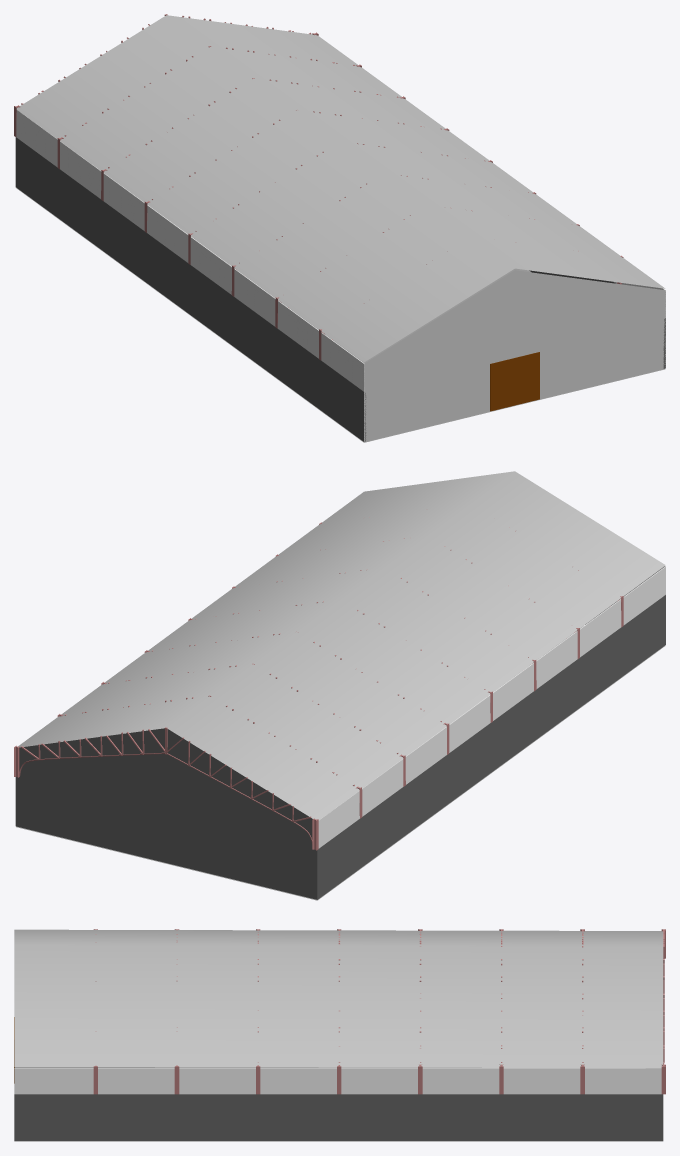
The model's file is Hangar.FBX.
The picture shows the model from 3 angles, top to bottom: view 1: azimuth 30°, elevation 25°; view 2: azimuth 150°, elevation 25°; view 3: azimuth 270°, elevation 25°; orthographic projection. The views are drawn at different scales.
Visible parts, largest first — view 1: salle:Layer2, salle:Layer6, salle:Layer7, salle:Layer8, salle:Layer5, salle:Layer1; view 2: salle:Layer2, salle:Layer6, salle:Layer7, salle:Layer1, salle:Layer5; view 3: salle:Layer2, salle:Layer7, salle:Layer1, salle:Layer5.
Boxes of the visible parts, x1,y1,x2,y2 form: salle:Layer2: [16, 15, 665, 362]; salle:Layer6: [364, 270, 665, 441]; salle:Layer7: [15, 110, 665, 441]; salle:Layer8: [490, 352, 539, 411]; salle:Layer5: [16, 187, 665, 442]; salle:Layer1: [14, 14, 623, 360]; salle:Layer2: [18, 471, 665, 820]; salle:Layer6: [15, 566, 665, 899]; salle:Layer7: [15, 566, 665, 899]; salle:Layer1: [14, 517, 623, 850]; salle:Layer5: [16, 626, 665, 900]; salle:Layer2: [14, 929, 663, 1068]; salle:Layer7: [14, 1068, 663, 1140]; salle:Layer1: [93, 929, 665, 1094]; salle:Layer5: [14, 1067, 663, 1141].
Size of the model in its own units: 50.89 by 22.12 by 102.
